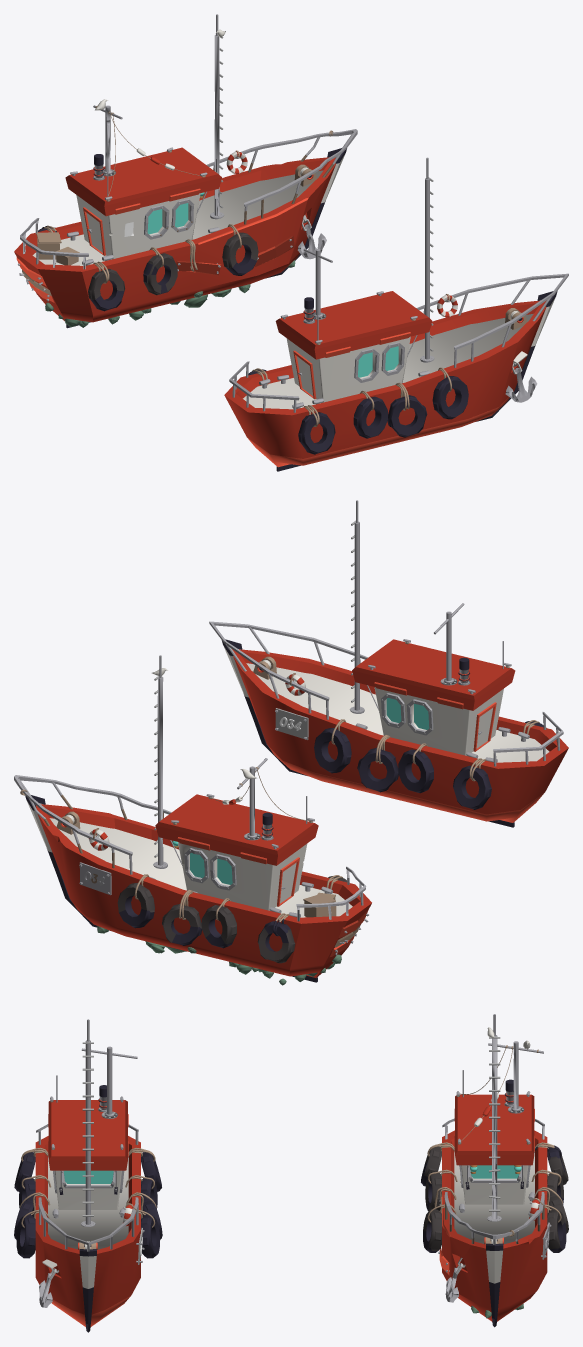
Rendered from ship_boat_4.glb.
3 renders of one model, top to bottom at view 1: azimuth 30°, elevation 25°; view 2: azimuth 150°, elevation 25°; view 3: azimuth 270°, elevation 25°, orthographic. The views are drawn at different scales.
Parts seen in each view (by area): view 1: polySurface3_white_0; view 2: polySurface3_white_0; view 3: polySurface3_white_0.
Boxes of the visible parts, left/top/right/bottom form: polySurface3_white_0: left=14, top=14, right=568, bottom=471; polySurface3_white_0: left=14, top=500, right=568, bottom=985; polySurface3_white_0: left=14, top=1014, right=568, bottom=1332.
Size of the model in its own units: 14.33 by 11.03 by 19.67.
Materials: 1 (1 with a texture image).
